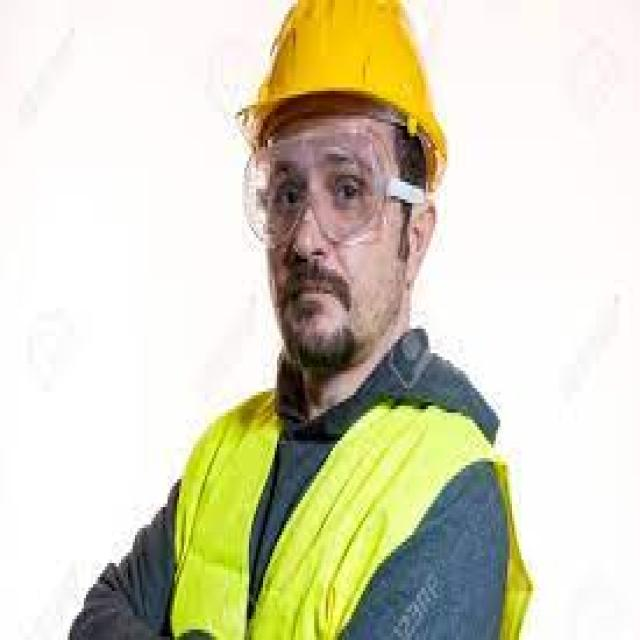glasses: (239, 131, 394, 249)
